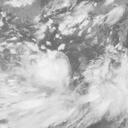cyclone: (29, 44, 70, 90)
